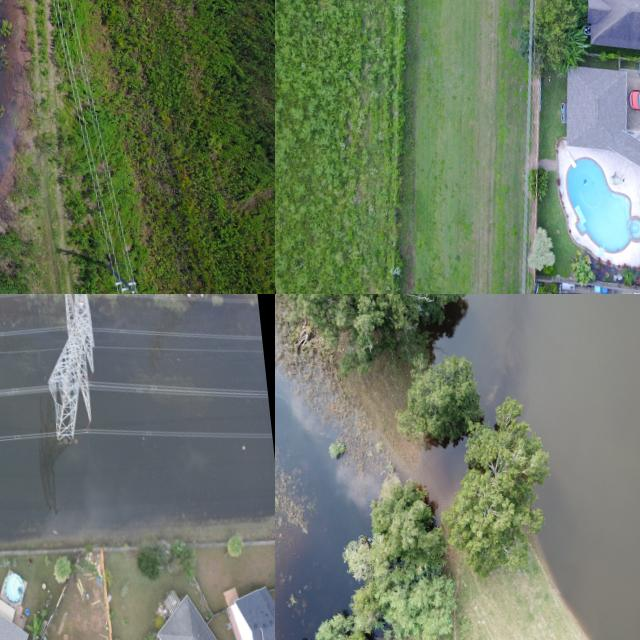fire: (434, 294, 640, 640), (0, 294, 275, 542), (275, 371, 383, 640)
